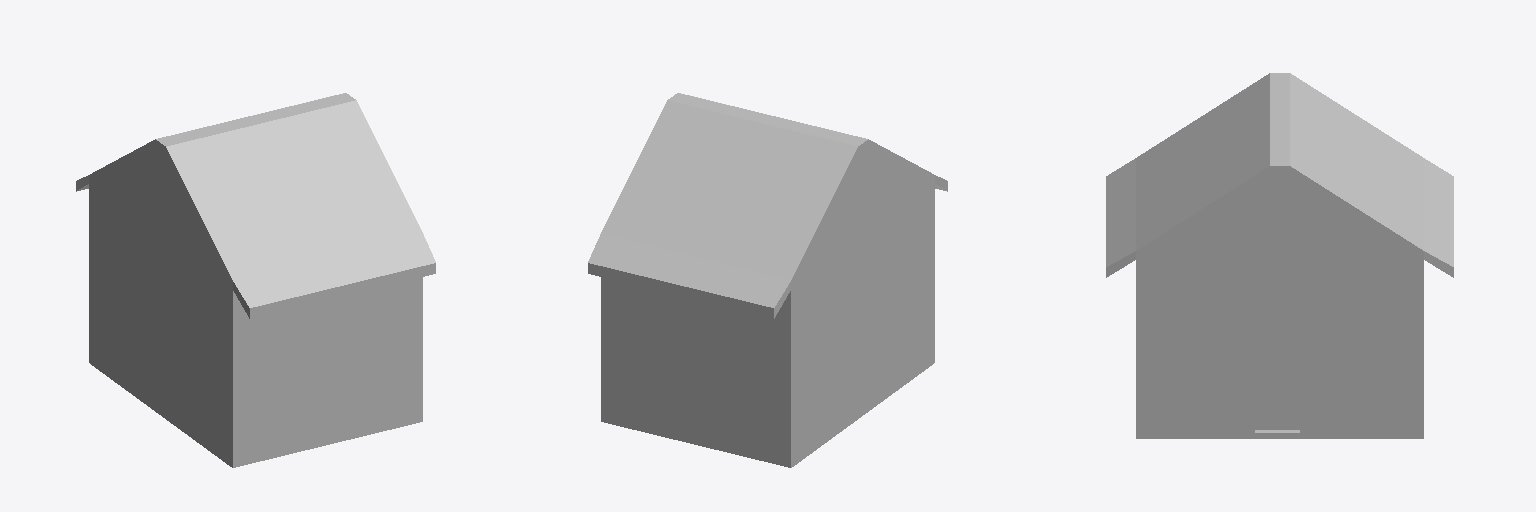
Rendered from house.obj.
3 views of the same model, side by side, from view 1: azimuth 30°, elevation 25°; view 2: azimuth 150°, elevation 25°; view 3: azimuth 270°, elevation 25° (orthographic).
Visible parts, largest first — view 1: Cube; view 2: Cube; view 3: Cube.
Boxes of the visible parts, <box> form: Cube: <box>76,93,435,467</box>; Cube: <box>588,93,947,467</box>; Cube: <box>1106,73,1453,438</box>.
Size of the model in its own units: 2 by 2.73 by 3.16.